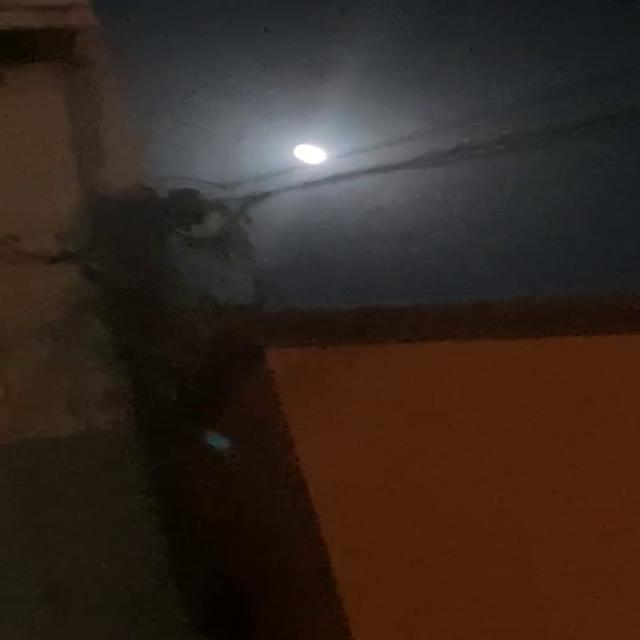moon: (280, 137, 348, 200)
